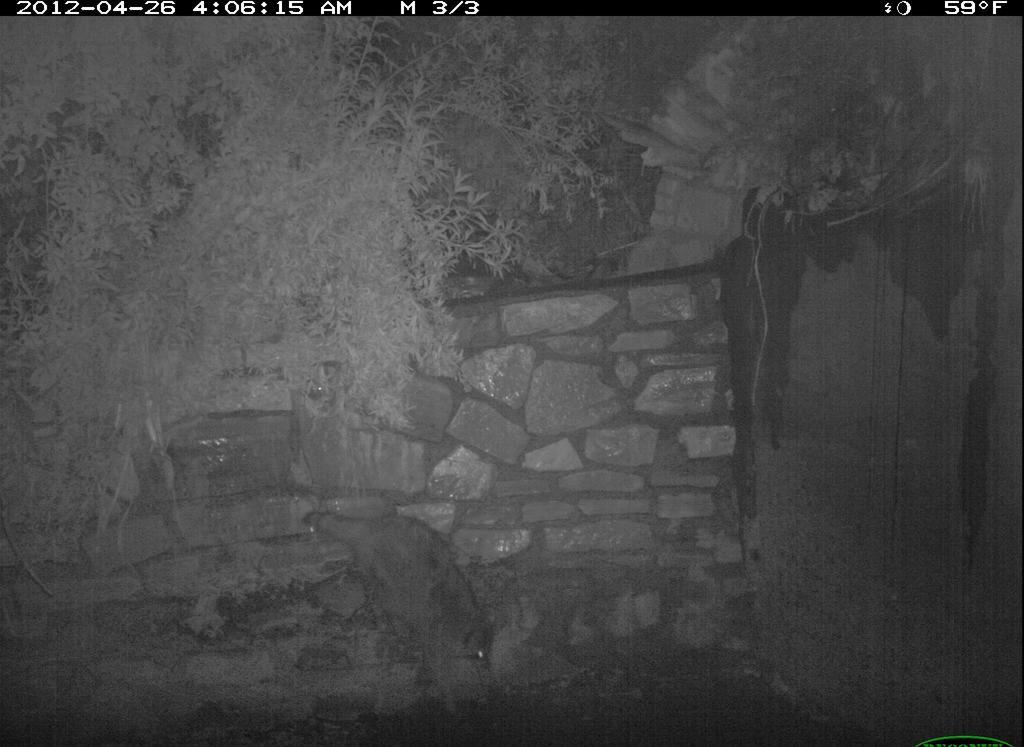raccoon: (294, 492, 510, 700)
